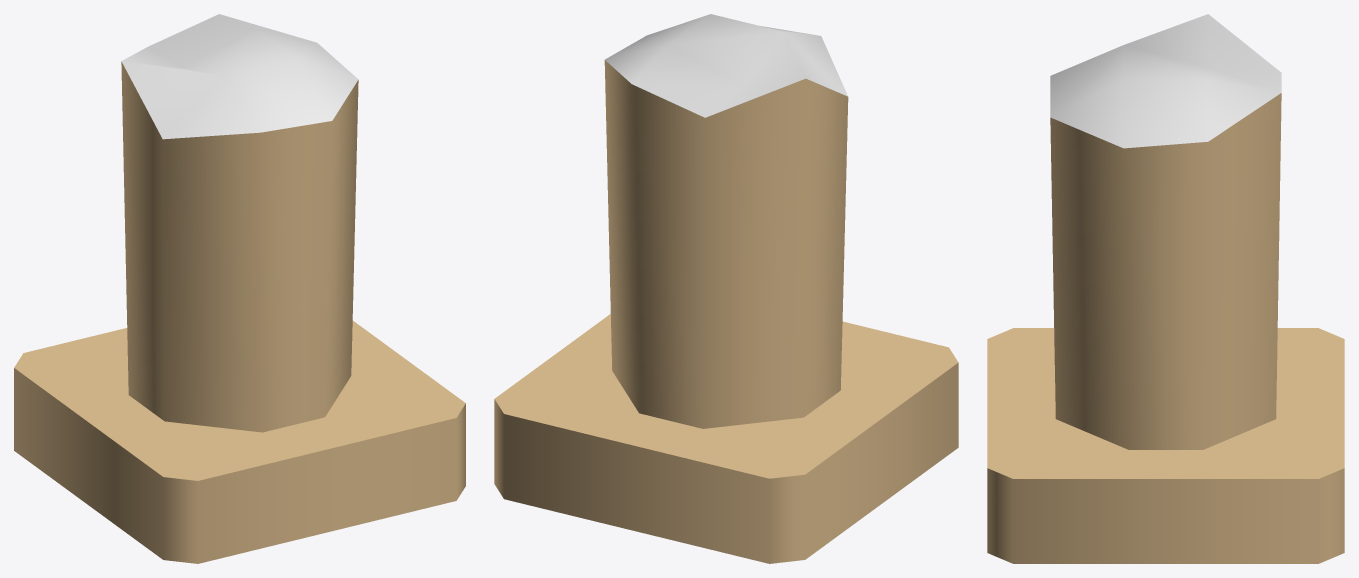
File: PillarSmall.gltf
3 views of the same model, side by side, from view 1: azimuth 30°, elevation 25°; view 2: azimuth 150°, elevation 25°; view 3: azimuth 270°, elevation 25° (orthographic). The views are drawn at different scales.
Parts seen in each view (by area): view 1: PillarSmall; view 2: PillarSmall; view 3: PillarSmall.
Part boxes in pixels (x1,y1,x2,y2): PillarSmall: [14, 14, 465, 563]; PillarSmall: [494, 14, 958, 563]; PillarSmall: [987, 14, 1344, 563].
Size of the model in its own units: 0.5982 by 0.7861 by 0.5982.
